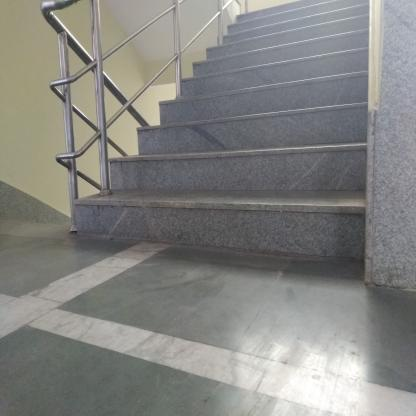stairs: (248, 7, 367, 263)
